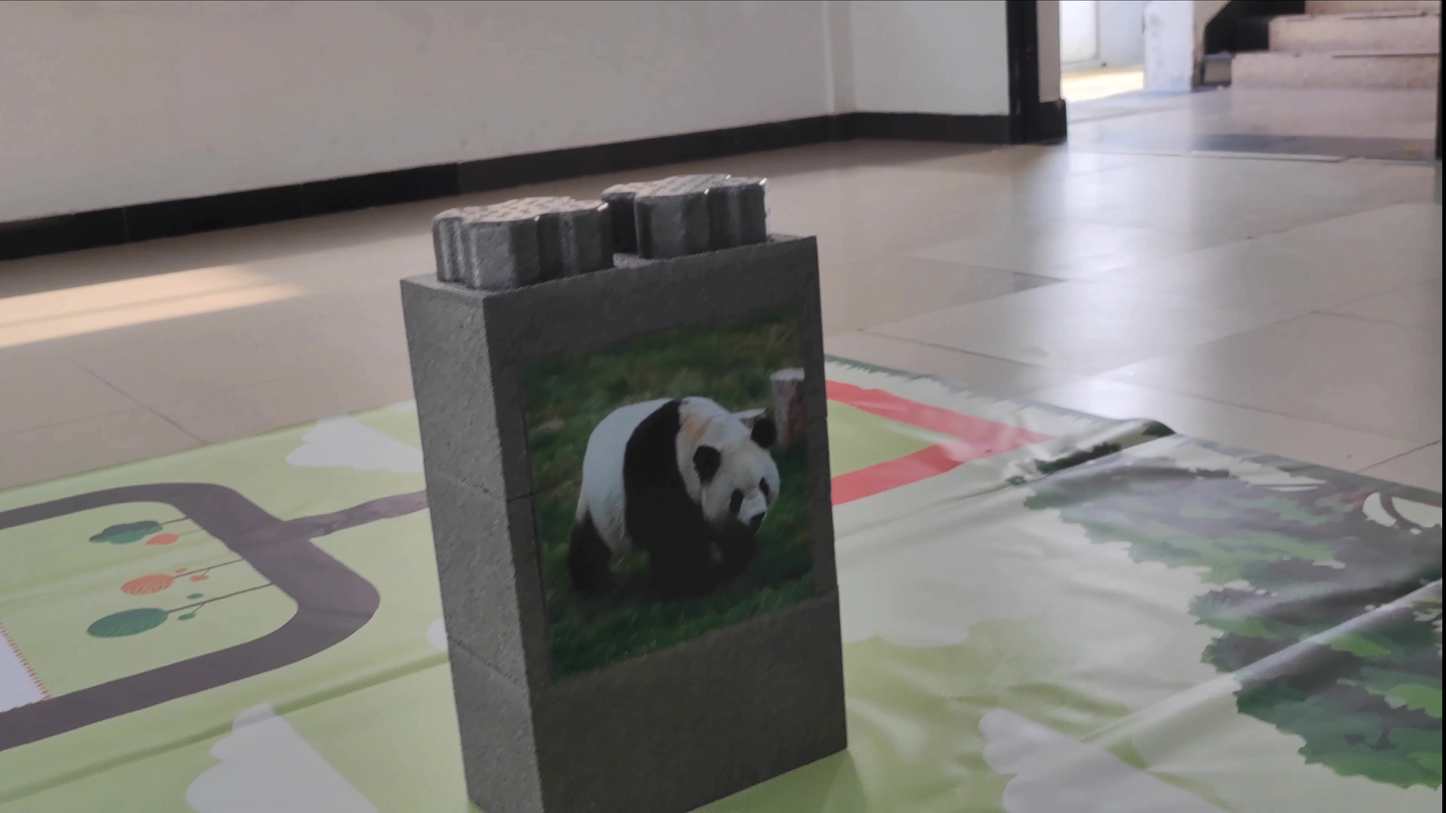panda: (541, 384, 801, 608)
